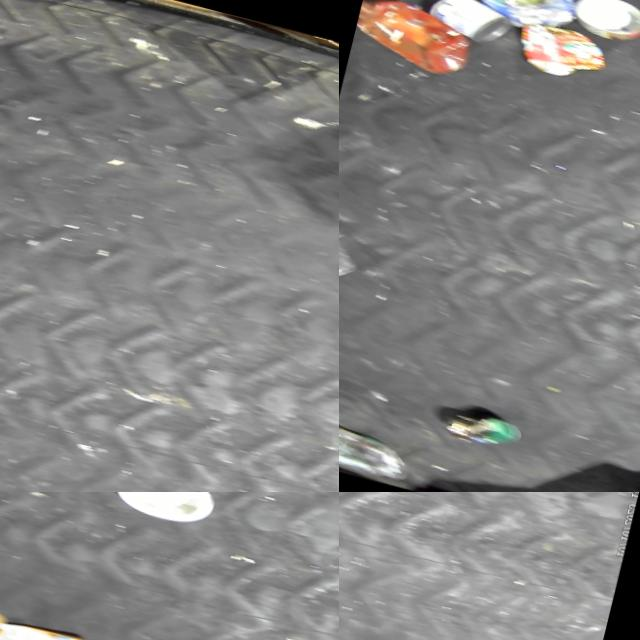can: (418, 0, 519, 48), (569, 0, 640, 47)
non_white_jug: (349, 0, 483, 81)
plastic_bottle: (339, 407, 415, 481)
